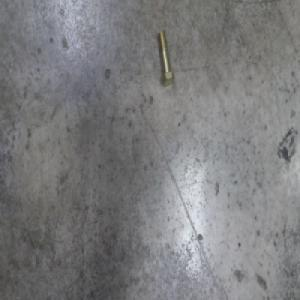Bolt: (157, 29, 174, 86)
